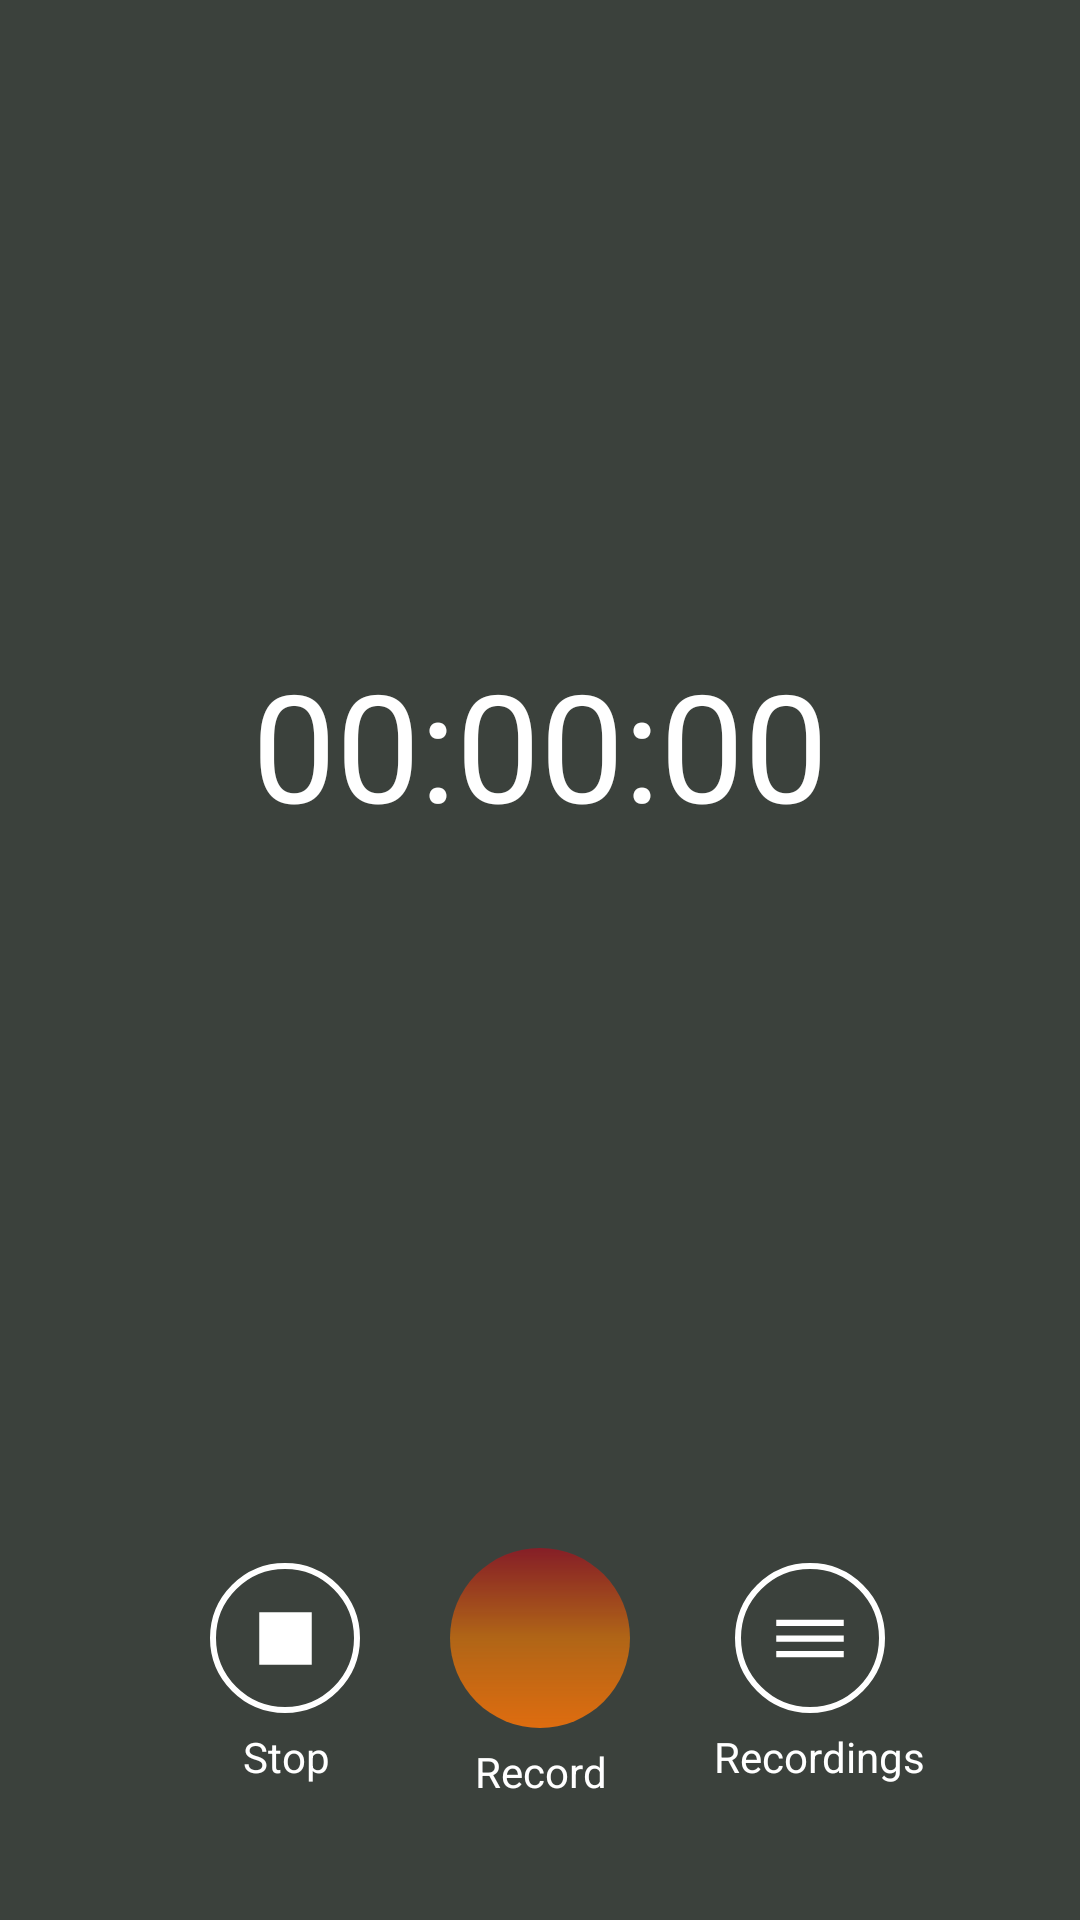

Icons on this 1080 x 1920 Android screen, each with the point to tap as point (x, y):
menu: point (810, 1638)
